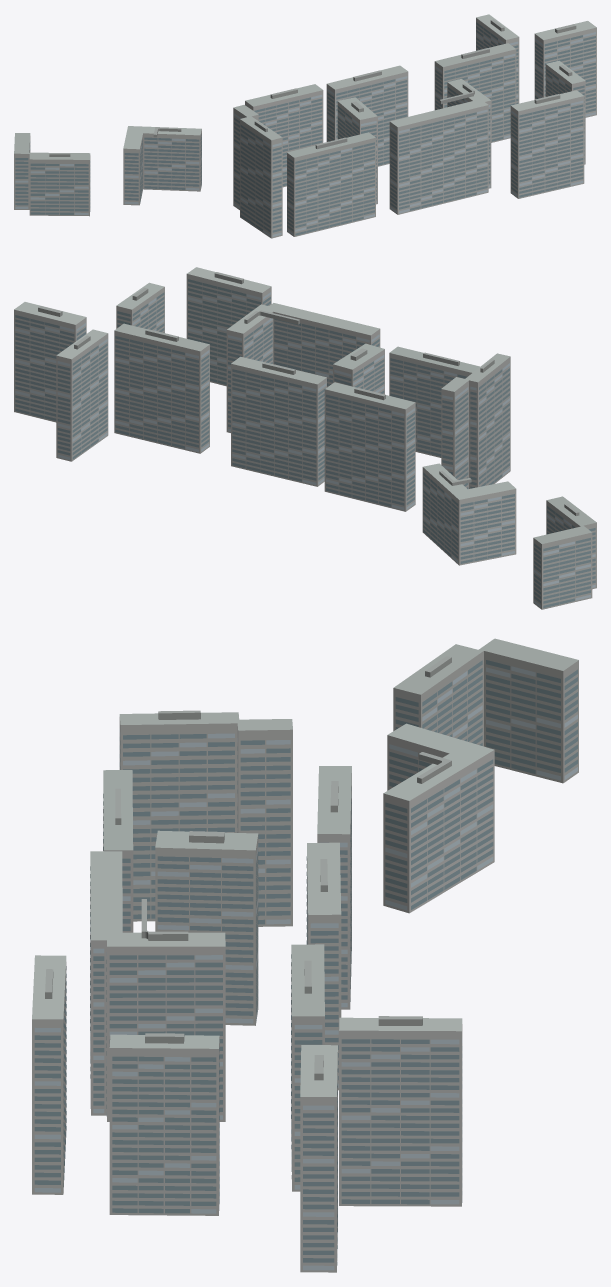
File: apt-a12008003.glb
The picture shows the model from 3 angles, top to bottom: view 1: azimuth 30°, elevation 25°; view 2: azimuth 150°, elevation 25°; view 3: azimuth 270°, elevation 25°; orthographic projection. The views are drawn at different scales.
Parts seen in each view (by area): view 1: apt-a12008003; view 2: apt-a12008003; view 3: apt-a12008003.
Boxes of the visible parts, bbox=[...] form: apt-a12008003: bbox=[14, 14, 596, 238]; apt-a12008003: bbox=[14, 267, 596, 609]; apt-a12008003: bbox=[32, 638, 578, 1272].
Bounding box in the file's own units: 399 × 72.55 × 177.
